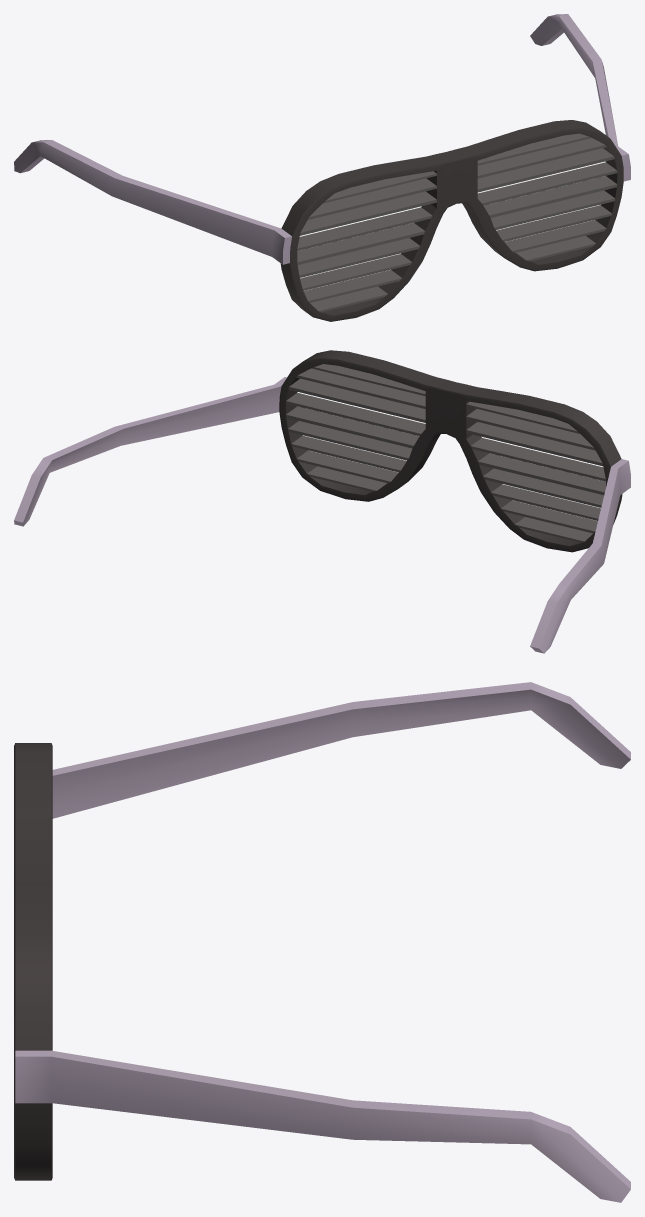
The model's file is Glasses_08_02.fbx.
3 views of the same model, one above another, from view 1: azimuth 30°, elevation 25°; view 2: azimuth 150°, elevation 25°; view 3: azimuth 270°, elevation 25° (orthographic). The views are drawn at different scales.
Visible parts, largest first — view 1: Glasses_08_02; view 2: Glasses_08_02; view 3: Glasses_08_02.
Boxes of the visible parts, left/top/right/bottom form: Glasses_08_02: left=14, top=14, right=630, bottom=321; Glasses_08_02: left=14, top=350, right=630, bottom=653; Glasses_08_02: left=14, top=682, right=630, bottom=1202.
Size of the model in its own units: 39.35 by 9.78 by 23.23.
